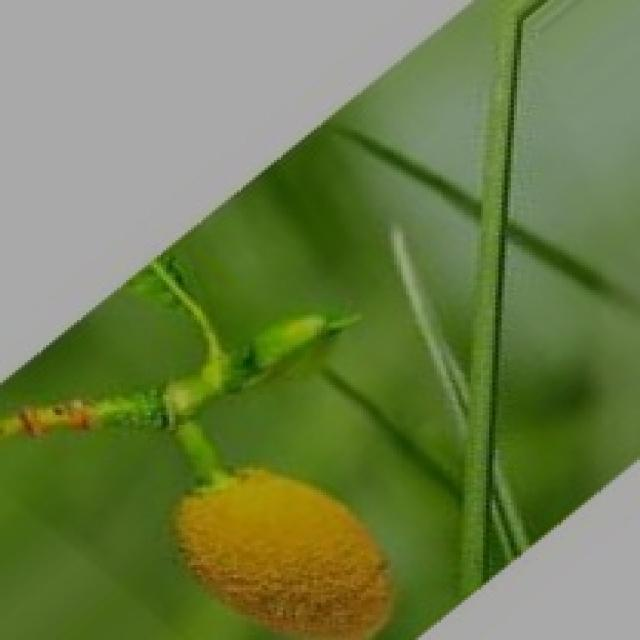Fruit: (132, 435, 425, 640)
